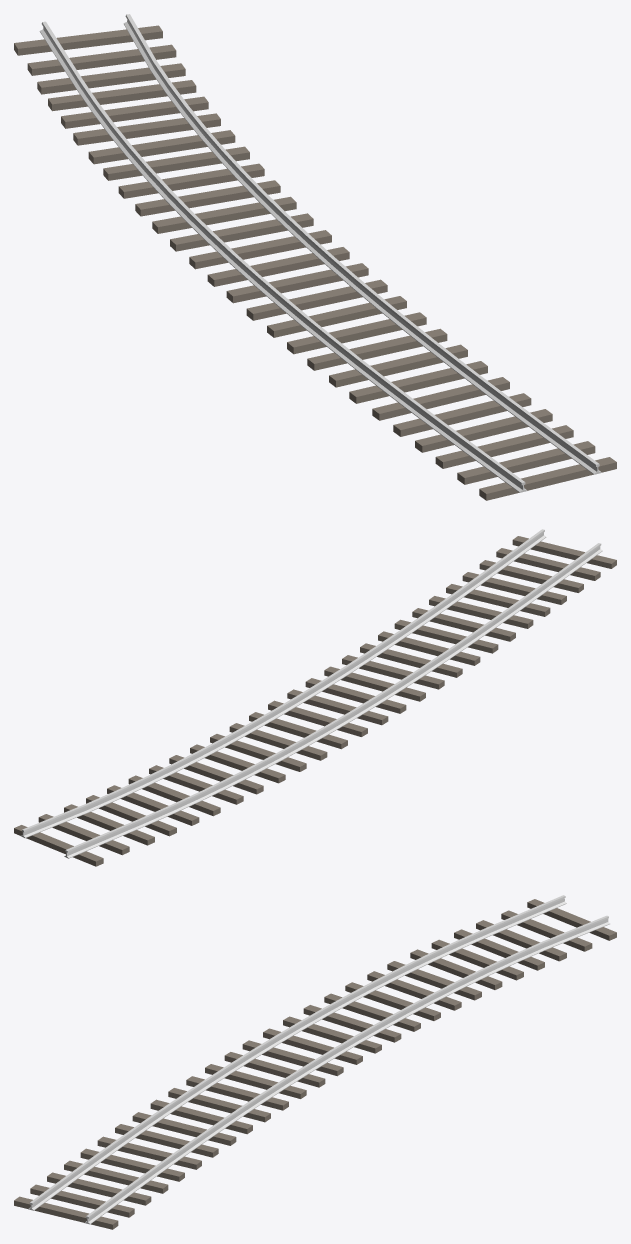
The model's file is rail_turn_right.fbx.
3 views of the same model, one above another, from view 1: azimuth 30°, elevation 25°; view 2: azimuth 150°, elevation 25°; view 3: azimuth 330°, elevation 25° (orthographic). The views are drawn at different scales.
Parts seen in each view (by area): view 1: rail_turn_right; view 2: rail_turn_right; view 3: rail_turn_right.
Boxes of the visible parts, <box> form: rail_turn_right: <box>14,14,616,500</box>; rail_turn_right: <box>14,529,616,866</box>; rail_turn_right: <box>14,895,616,1229</box>.
Bounding box in the file's own units: 467 × 31 × 2044.
